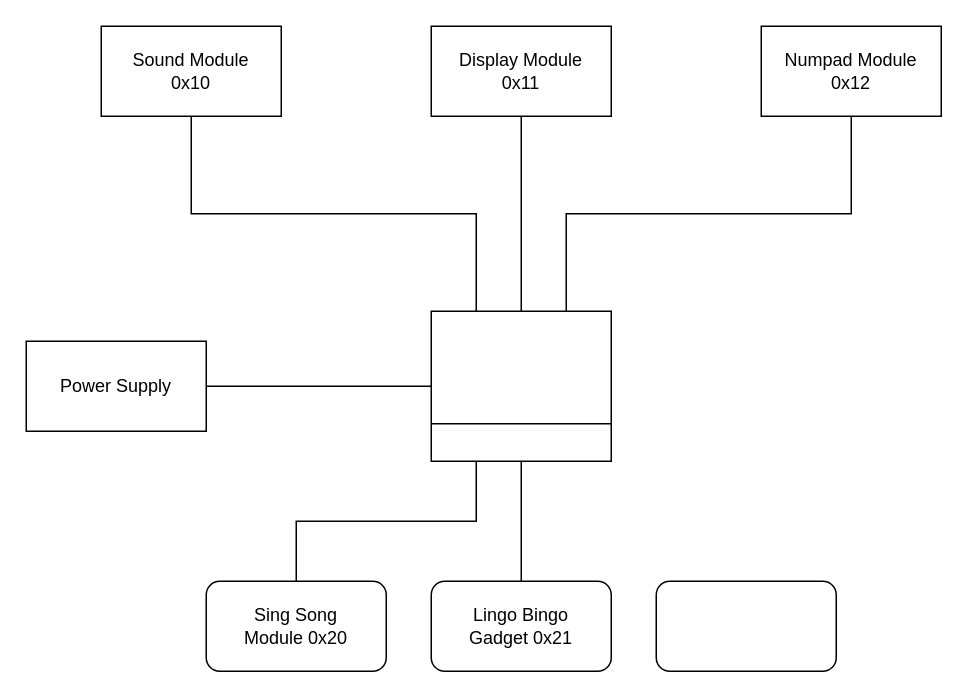
This 968x698 diagram has some shape labels left out. Each missing label, with the centre of its shape:
"Bus Module" belongs at point (520, 385).
"Pong Game Module 0x22" belongs at point (745, 625).
